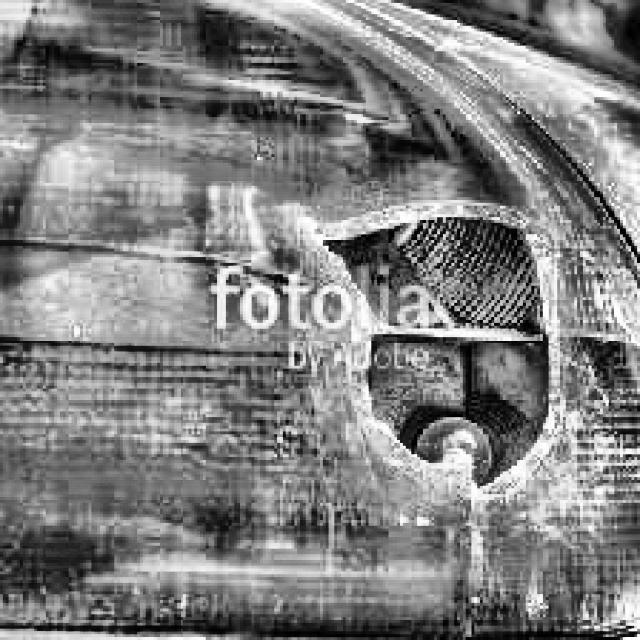tail_lamp: (314, 220, 558, 486)
